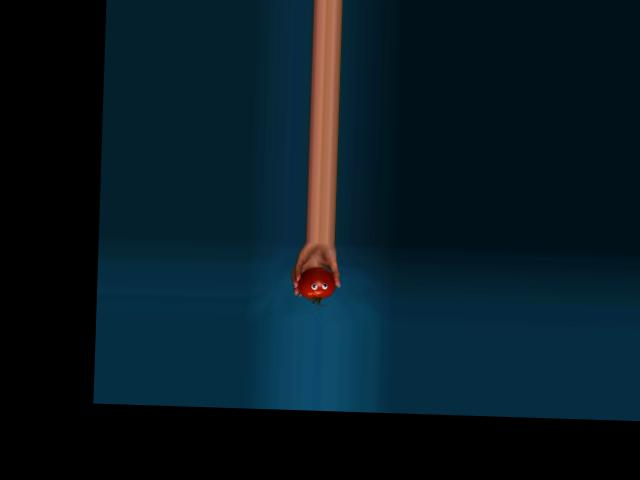tomato: (297, 266, 336, 299)
